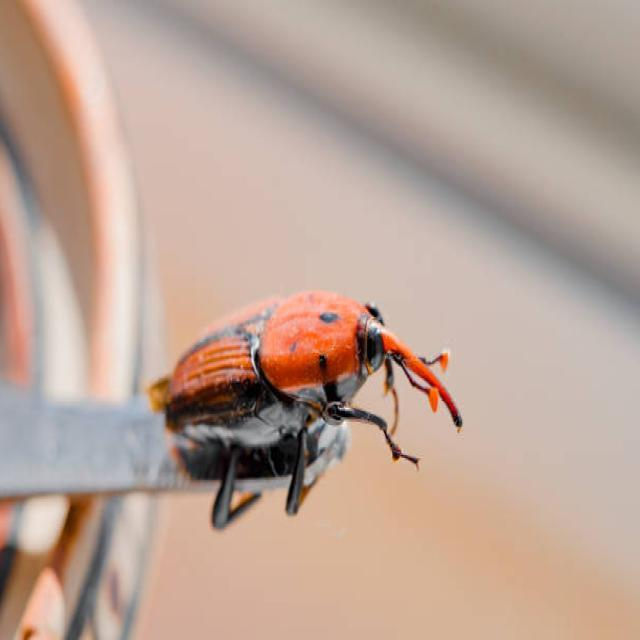Red-palm-weevil: (140, 276, 489, 532)
